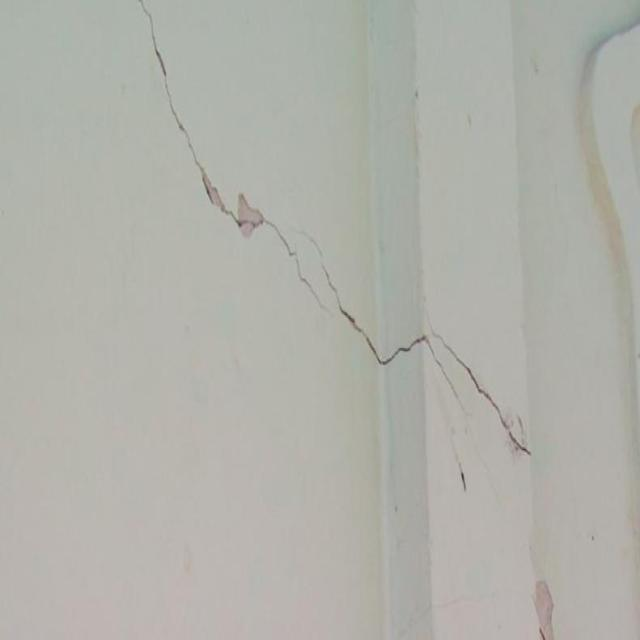crack: (143, 3, 333, 319), (289, 226, 465, 409), (429, 318, 532, 457)
